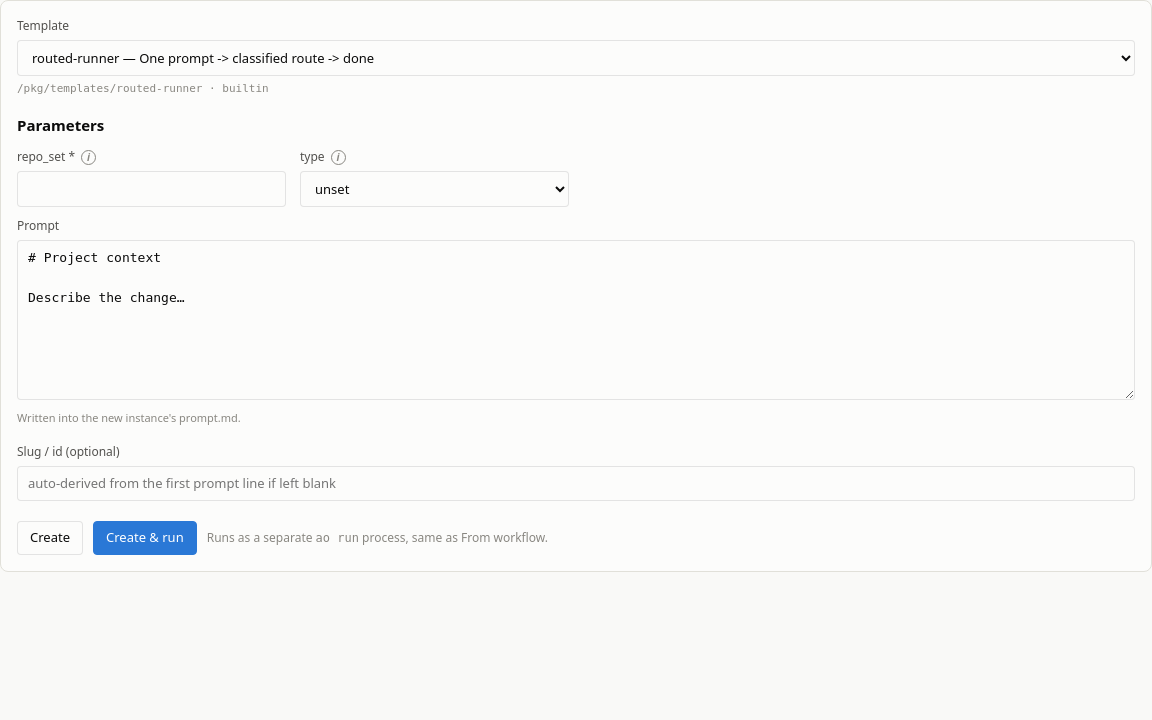
Test: TemplateLaunch › shows the server error detail (e.g. a 409 prompt conflict) via the banner
Step 1. Type "main" into the field labelled "repo_set *" → (152, 189), box x1=17 y1=171 x2=286 y2=206
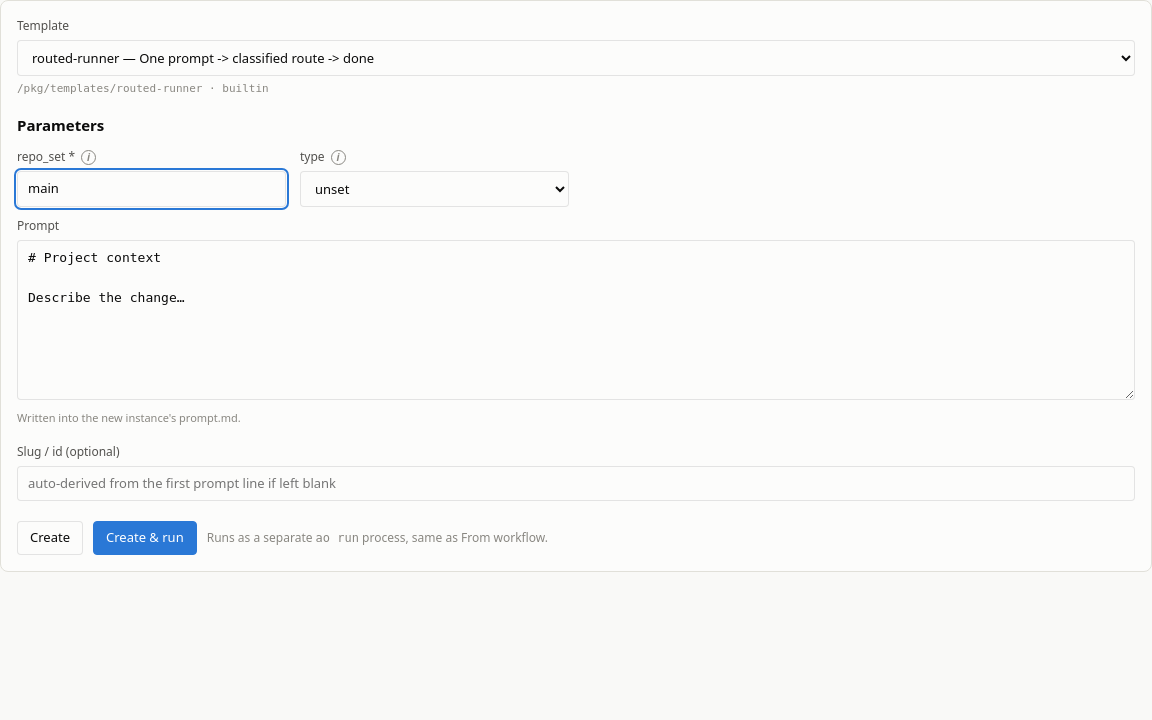
Step 2. Click the button "Create" → (50, 538), box x1=17 y1=521 x2=83 y2=554
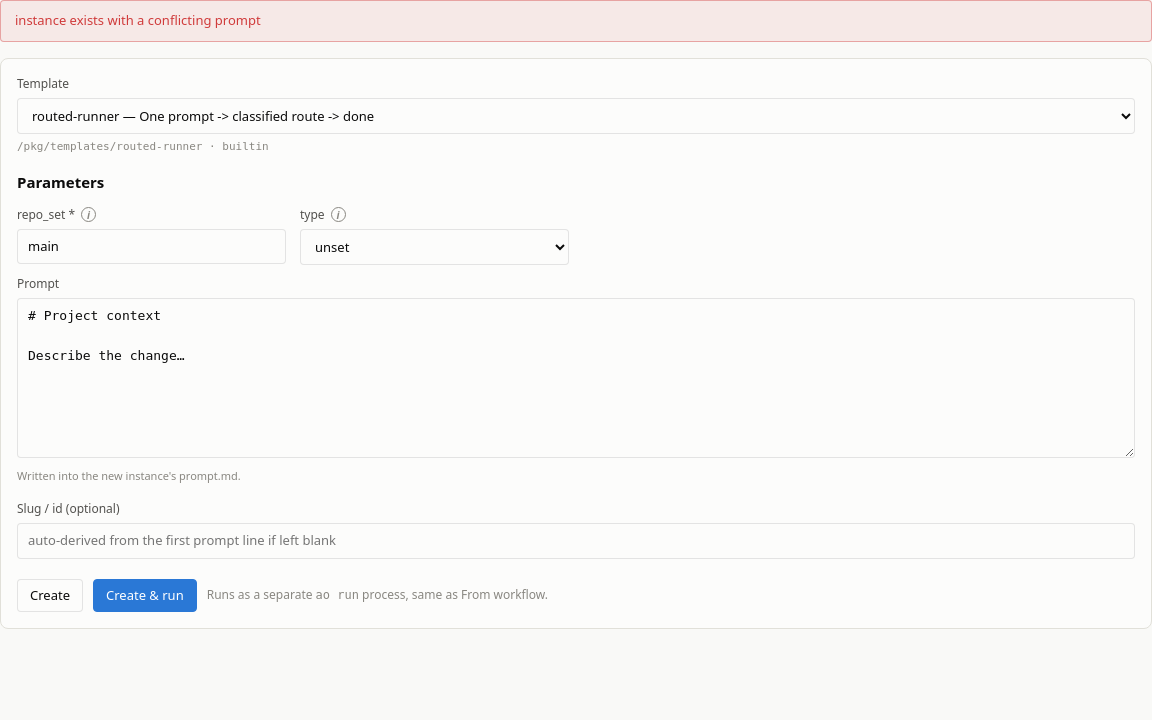
expect the text "instance exists with a conflicting prompt" is shown: met, box x1=0 y1=0 x2=1151 y2=42
